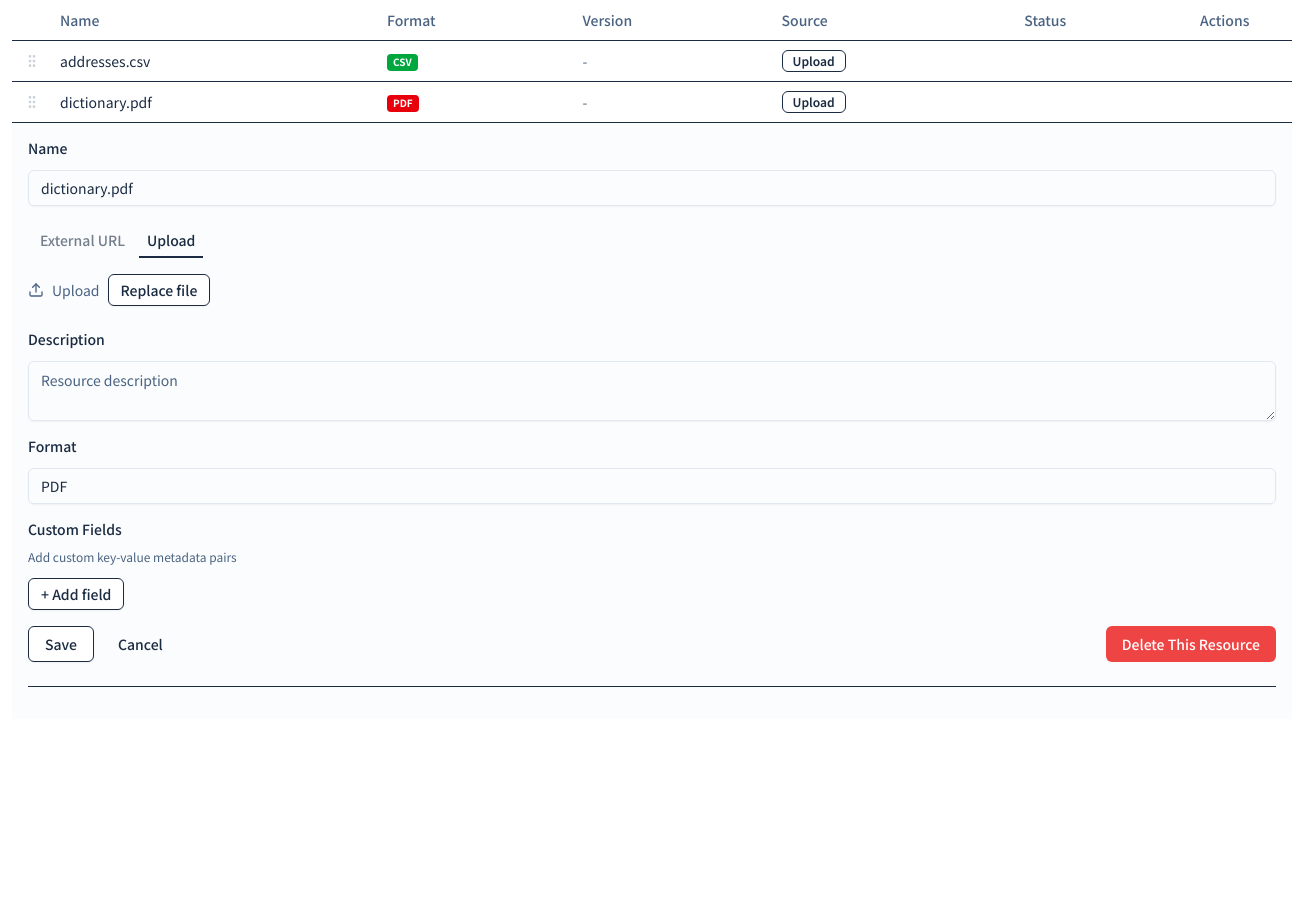
Test: ResourceList deep link › should not reopen the editor when the package refetches
Click the text "dictionary.pdf" at (106, 102), box [52,81,379,122]
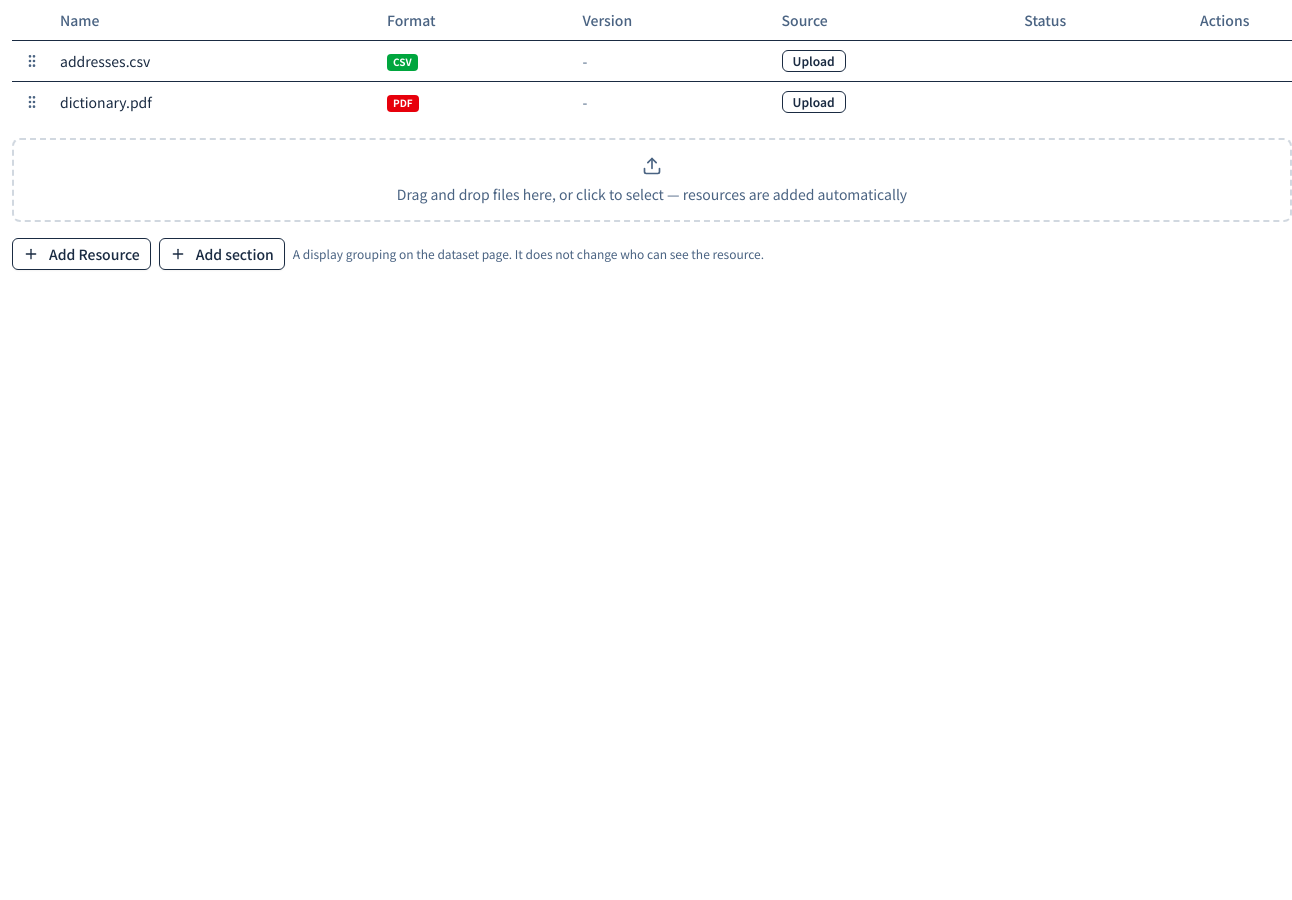
Now the button "Save" is gone
